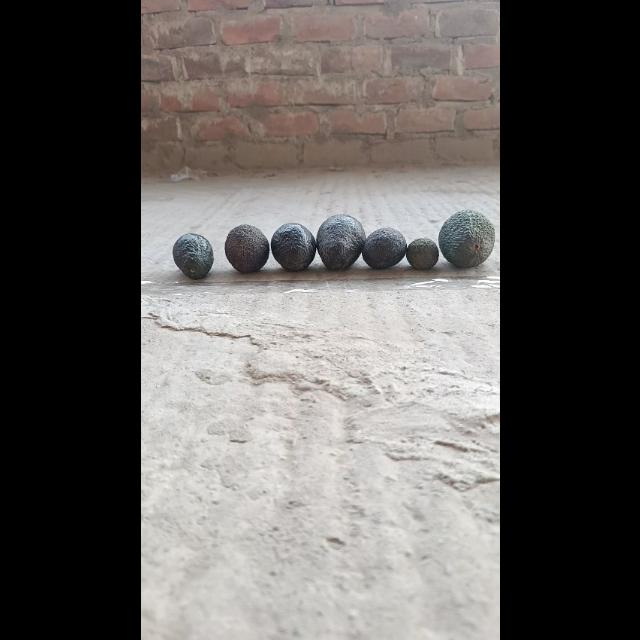Primera: (436, 208, 494, 268), (316, 214, 364, 270)
Segunda: (222, 224, 270, 274), (269, 223, 315, 271), (170, 232, 212, 280), (361, 226, 407, 268)
Tercera: (404, 237, 438, 270)
